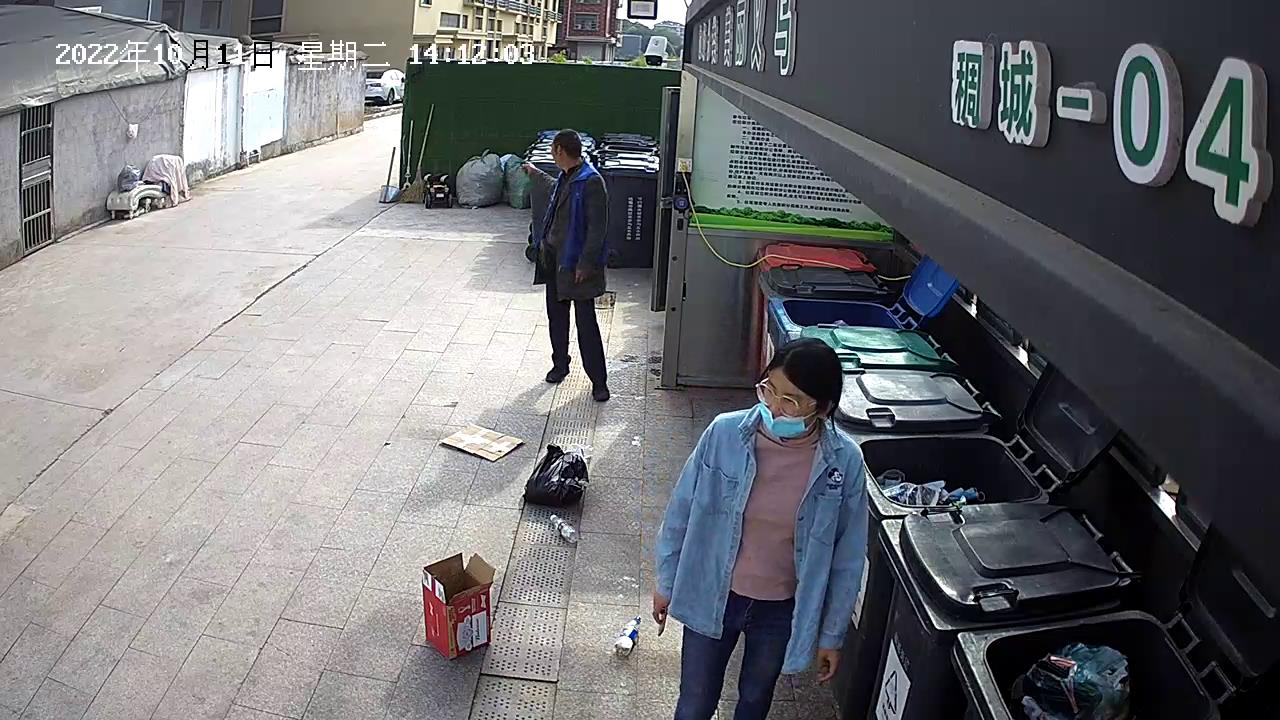garbage-bag: (522, 440, 595, 510)
suliaozhipin: (612, 613, 644, 661), (547, 510, 581, 545)
worker: (651, 335, 872, 720), (517, 125, 618, 402)
zhizhipin: (419, 550, 499, 663), (436, 419, 525, 466)
